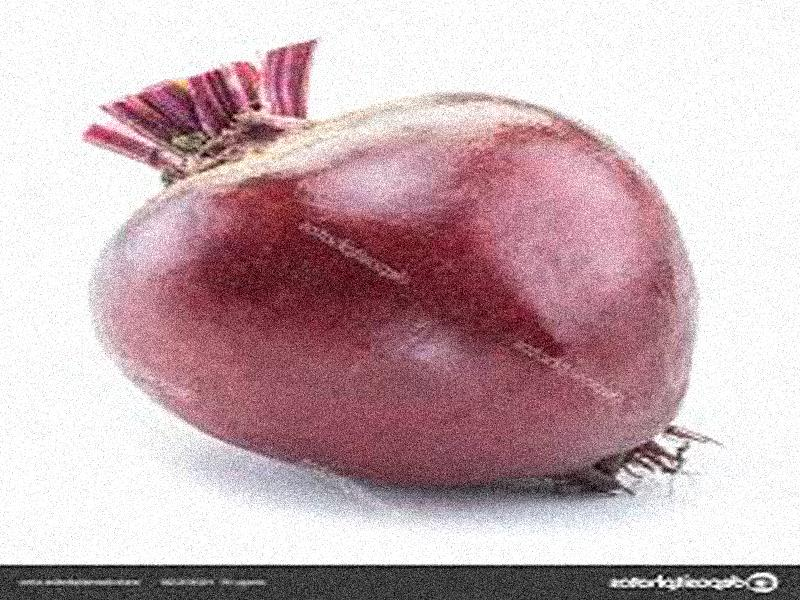Beet: (87, 45, 696, 488)
